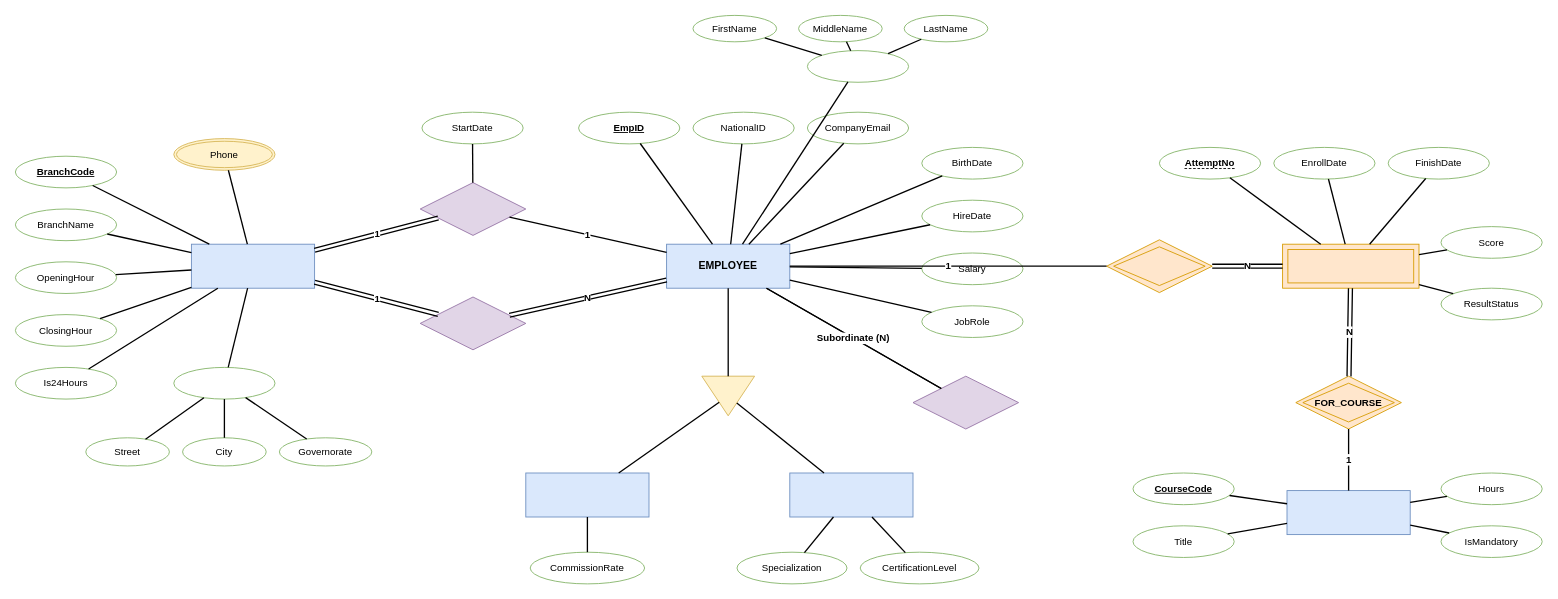
Some shapes in this 1558 by 599 pixel diagram are drawn without their labels. Each missing label, with the centre of its shape:
"Address" goes at (224,383).
"BRANCH" goes at (253,265).
"COURSE" goes at (1348,512).
"FullName" goes at (858,66).
"ISA (d)" goes at (728,395).
"MANAGES" goes at (472,208).
"MECHANIC" goes at (851,494).
"RENTAL_AGENT" goes at (587,494).
"SUPERVISES" goes at (965,402).
"TAKES_ATTEMPT" goes at (1159,266).
"TRAINING_ATTEMPT" goes at (1350,265).
"WORKS_AT" goes at (472,323).
